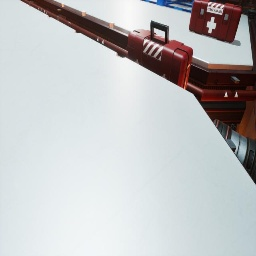FirstAidBox ,: (127, 20, 193, 90), (189, 0, 242, 43)
